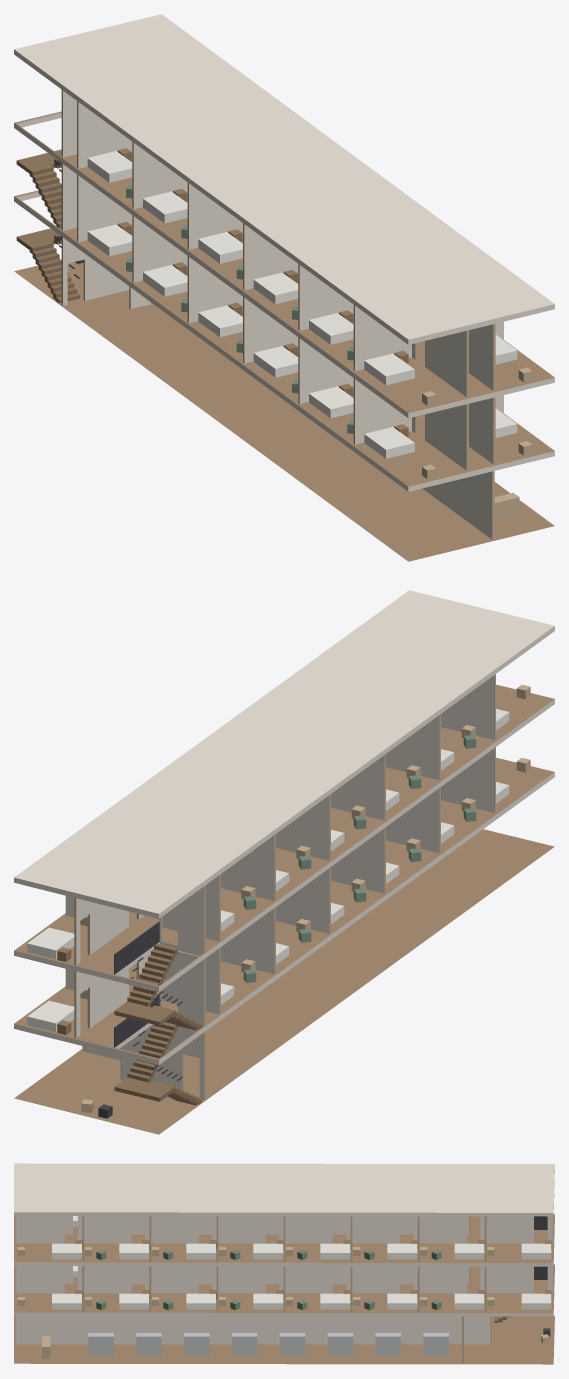
File: interior.glb
The picture shows the model from 3 angles, top to bottom: view 1: azimuth 30°, elevation 25°; view 2: azimuth 150°, elevation 25°; view 3: azimuth 270°, elevation 25°; orthographic projection. The views are drawn at different scales.
Visible parts, largest first — view 1: slabs, partitions, coarse-s1, coarse-s2, stair; view 2: slabs, partitions, stair, coarse-s2, coarse-s1; view 3: slabs, partitions, coarse-s1, coarse-s2, coarse-s0, stair.
Boxes of the visible parts, x1,y1,x2,y2 form: slabs: (14, 14, 554, 561); partitions: (61, 90, 503, 539); coarse-s1: (87, 221, 532, 479); coarse-s2: (87, 148, 532, 405); stair: (16, 149, 80, 303); slabs: (14, 590, 554, 1134); partitions: (65, 674, 495, 1100); stair: (114, 922, 201, 1105); coarse-s2: (27, 684, 530, 961); coarse-s1: (27, 758, 530, 1034); slabs: (14, 1163, 554, 1364); partitions: (16, 1215, 552, 1363); coarse-s1: (17, 1266, 551, 1310); coarse-s2: (17, 1216, 551, 1259); coarse-s0: (42, 1328, 550, 1358); stair: (494, 1216, 547, 1322).
Bounding box in the file's own units: 7.83 × 11.2 × 36.18.
